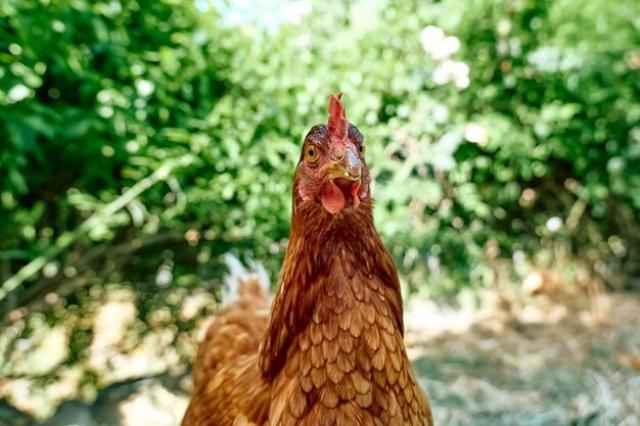Chicken: (181, 88, 434, 426)
